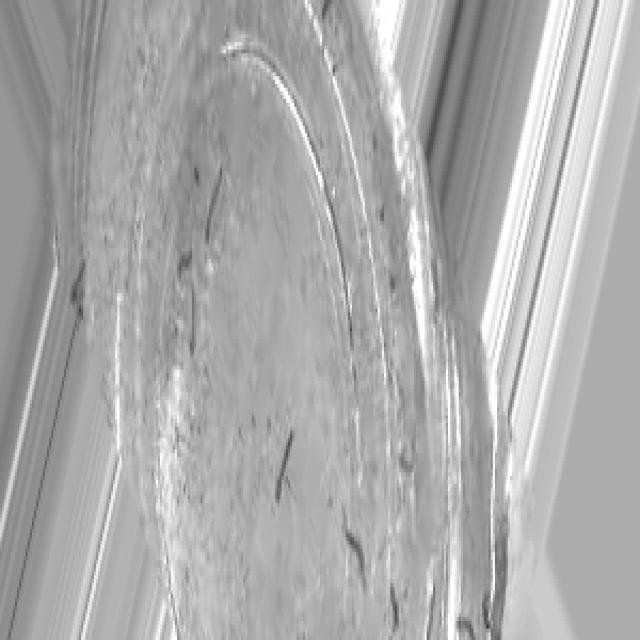larvas: (202, 165, 227, 244), (341, 518, 370, 584), (272, 426, 296, 504), (71, 262, 87, 304), (390, 580, 400, 629), (427, 585, 436, 639), (400, 441, 416, 470), (456, 615, 474, 640), (190, 288, 196, 351), (178, 249, 193, 274), (483, 592, 491, 632), (321, 0, 331, 16)
